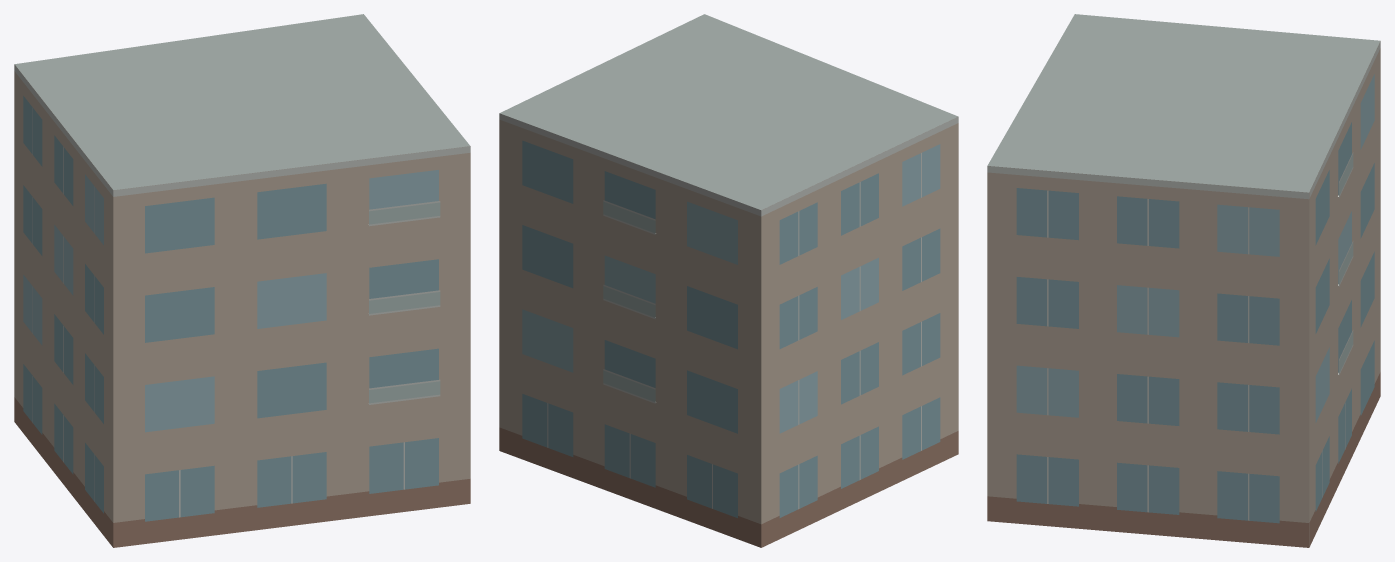
Rendered from survey-upis-32805260.glb.
The picture shows the model from 3 angles, left to right: view 1: azimuth 30°, elevation 25°; view 2: azimuth 150°, elevation 25°; view 3: azimuth 270°, elevation 25°; orthographic projection. The views are drawn at different scales.
Visible parts, largest first — view 1: survey-upis-32805260.tmp; view 2: survey-upis-32805260.tmp; view 3: survey-upis-32805260.tmp.
Boxes of the visible parts, x1,y1,x2,y2 form: survey-upis-32805260.tmp: (14, 14, 470, 547); survey-upis-32805260.tmp: (499, 14, 958, 547); survey-upis-32805260.tmp: (987, 14, 1380, 547).
Bounding box in the file's own units: 14.08 × 13.05 × 13.1.
